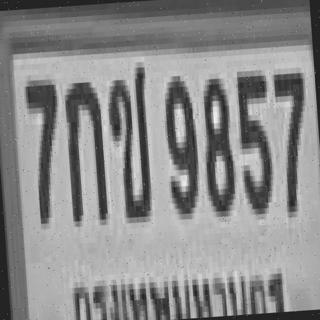A01: (61, 76, 106, 222)
A10: (103, 56, 153, 219)
N05: (234, 64, 272, 210)
N07: (22, 74, 63, 224), (271, 67, 310, 212)
N08: (198, 72, 234, 212)
N09: (161, 70, 200, 214)
